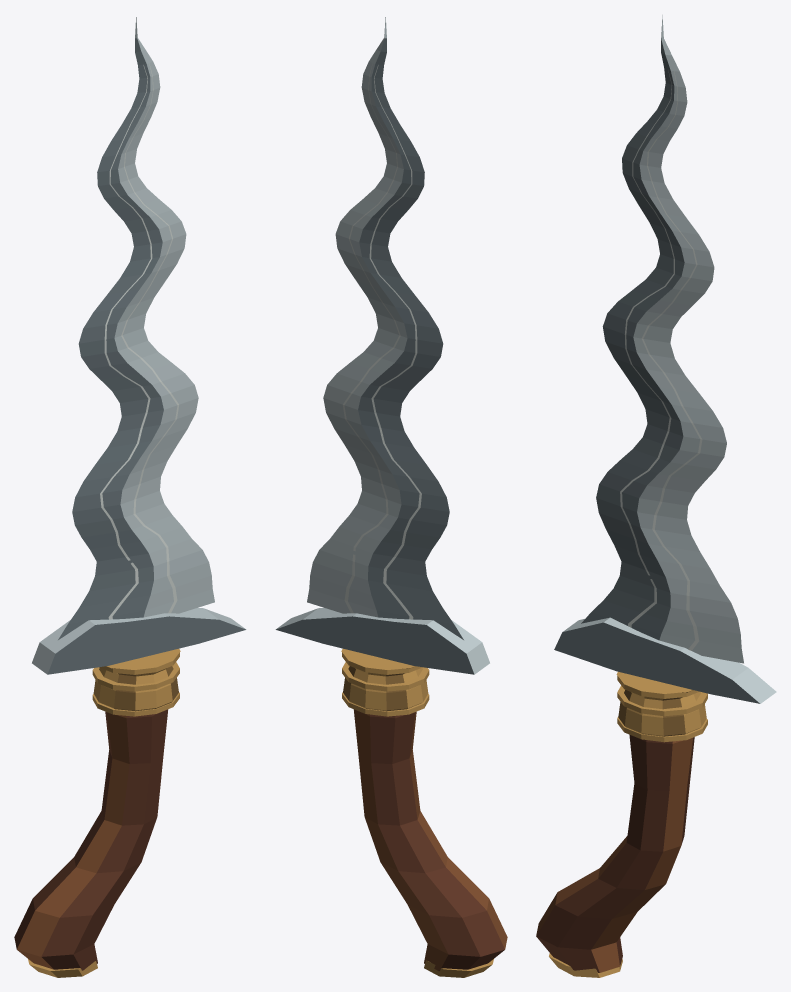
File: keris-mpu-gandring.glb
3 views of the same model, side by side, from view 1: azimuth 30°, elevation 25°; view 2: azimuth 150°, elevation 25°; view 3: azimuth 330°, elevation 25° (orthographic). The views are drawn at different scales.
Visible parts, largest first — view 1: Keris_Mpu_Gandring; view 2: Keris_Mpu_Gandring; view 3: Keris_Mpu_Gandring.
Part boxes in pixels (x1,y1,x2,y2): Keris_Mpu_Gandring: (14,17,246,977); Keris_Mpu_Gandring: (275,17,507,977); Keris_Mpu_Gandring: (536,15,776,977).
Size of the model in its own units: 0.195 by 0.784 by 0.062.
